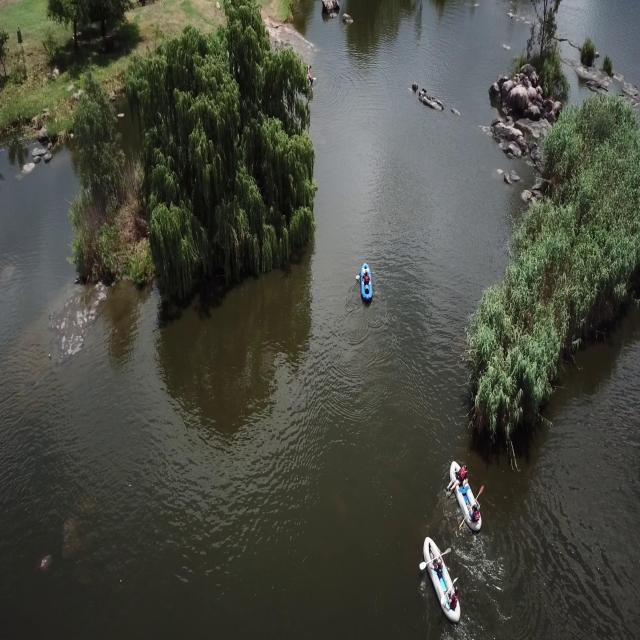kayak: (418, 529, 462, 628), (444, 456, 484, 539), (355, 260, 373, 308)
